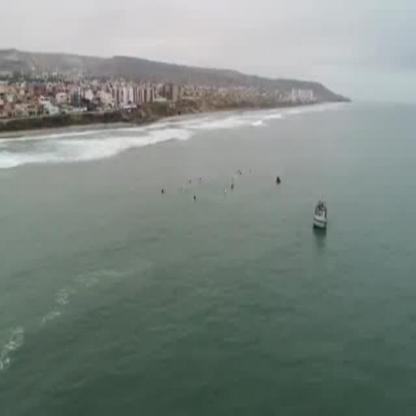Boat: (309, 200, 332, 231)
